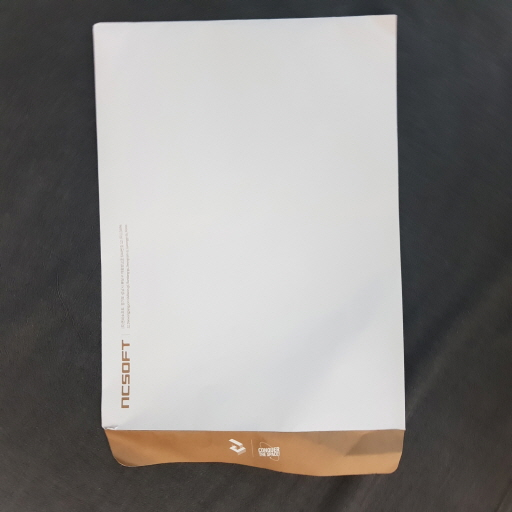Paper_2: (87, 11, 418, 483)
